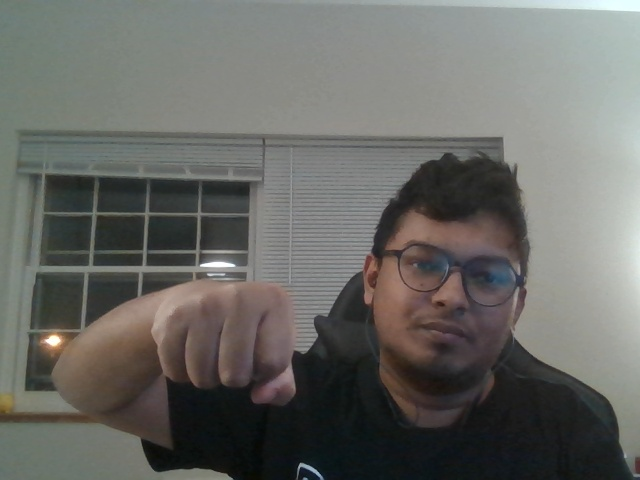yes: (110, 253, 315, 422)
